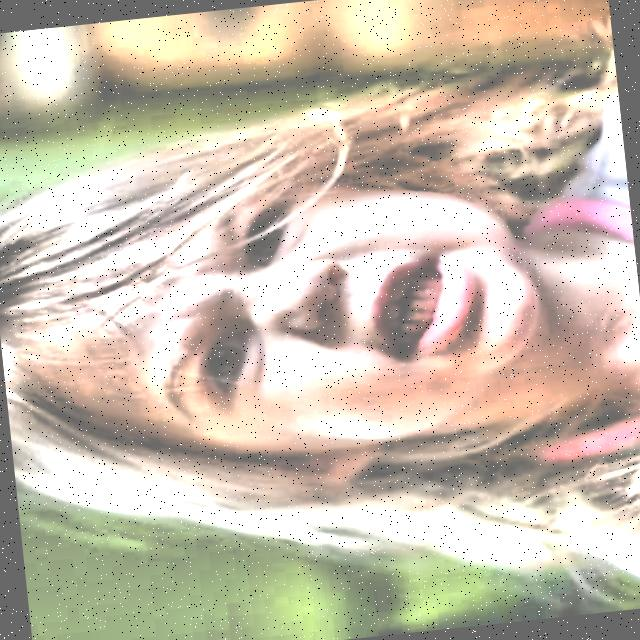angry: (0, 123, 565, 492)
